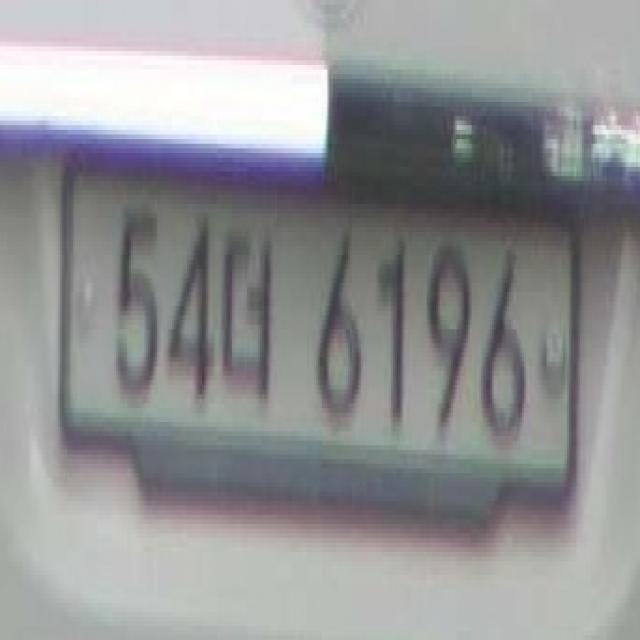1: (367, 227, 415, 450)
4: (157, 195, 225, 413)
5: (116, 172, 163, 412)
6: (474, 218, 534, 445), (316, 200, 367, 454)
9: (417, 218, 479, 464)
deo: (217, 214, 281, 418)
license_plate: (51, 148, 582, 529)
